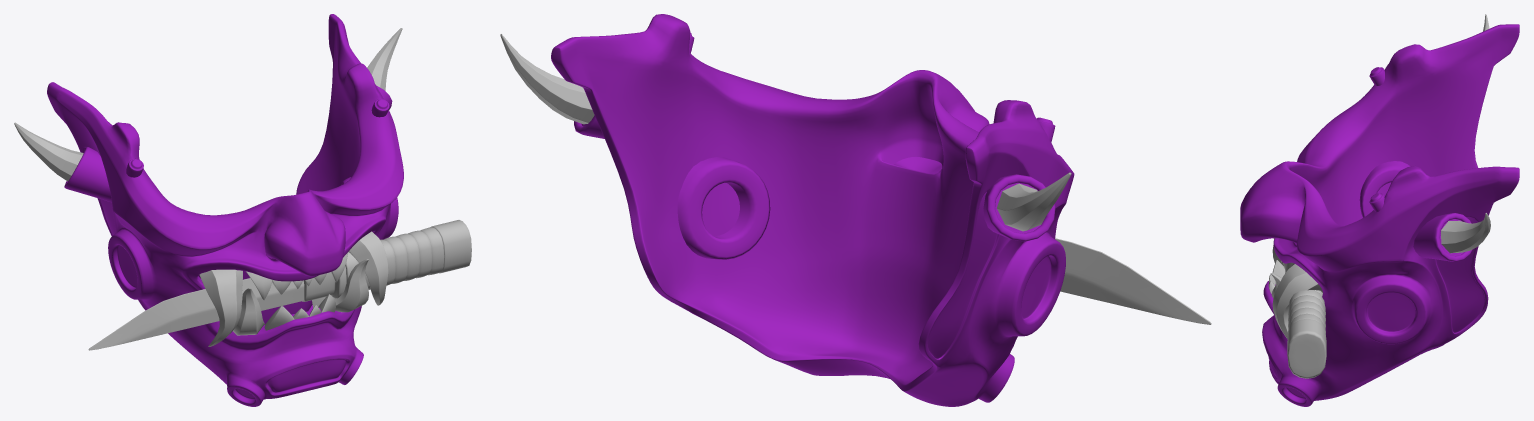
The model's file is Mask.fbx.
3 views of the same model, side by side, from view 1: azimuth 30°, elevation 25°; view 2: azimuth 150°, elevation 25°; view 3: azimuth 270°, elevation 25° (orthographic). The views are drawn at different scales.
Parts seen in each view (by area): view 1: mask7_mask1, mask7_teeth, mask7_knife, mask7_rubber; view 2: mask7_mask1, mask7_knife, mask7_teeth; view 3: mask7_mask1, mask7_teeth, mask7_knife, mask7_rubber.
Boxes of the visible parts, x1=… form: mask7_mask1: x1=47, y1=14, x2=403, y2=406; mask7_teeth: x1=14, y1=28, x2=402, y2=346; mask7_knife: x1=88, y1=220, x2=471, y2=350; mask7_rubber: x1=345, y1=227, x2=444, y2=289; mask7_mask1: x1=551, y1=14, x2=1074, y2=406; mask7_knife: x1=1055, y1=238, x2=1211, y2=324; mask7_teeth: x1=500, y1=34, x2=1071, y2=231; mask7_mask1: x1=1240, y1=24, x2=1519, y2=406; mask7_teeth: x1=1268, y1=14, x2=1490, y2=338; mask7_knife: x1=1287, y1=318, x2=1326, y2=378; mask7_rubber: x1=1288, y1=290, x2=1325, y2=333.
Size of the model in its own units: 20.4 by 13.24 by 11.76.
